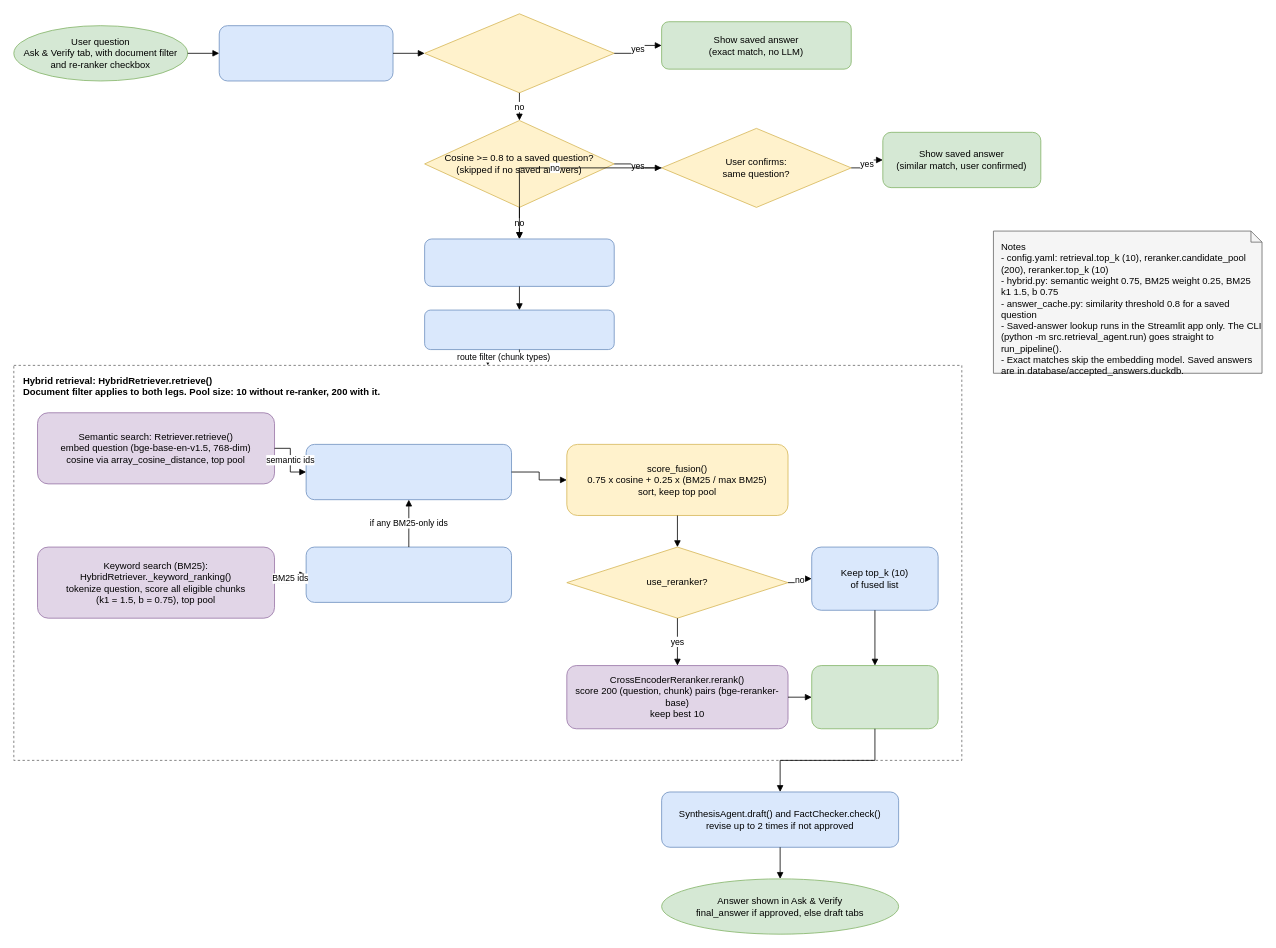
The diagram is 1276 pixels wide and 948 high, and some of its shapes have lost their labels. Each missing label, with the box of its shape:
Cosine for BM25-only chunks _cosine_scores() SQL lookup: (305, 546, 512, 602)
Exact normalized match in saved answers?: (424, 13, 614, 93)
find_accepted_answer() load accepted_answers.duckdb: (218, 25, 393, 81)
Merge candidates union of semantic and BM25 chunk ids: (305, 444, 512, 500)
RetrievalResult chunks, route, query_dimensions: (811, 665, 938, 729)
route_query() text, table, or both (from question wording): (424, 309, 614, 350)
run_pipeline() Bedrock client, then retrieval: (424, 238, 614, 286)
